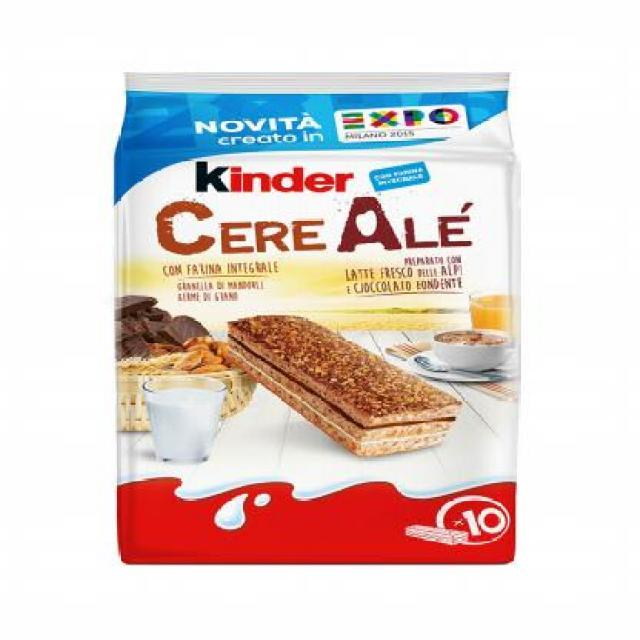Merendine: (88, 101, 538, 578)
